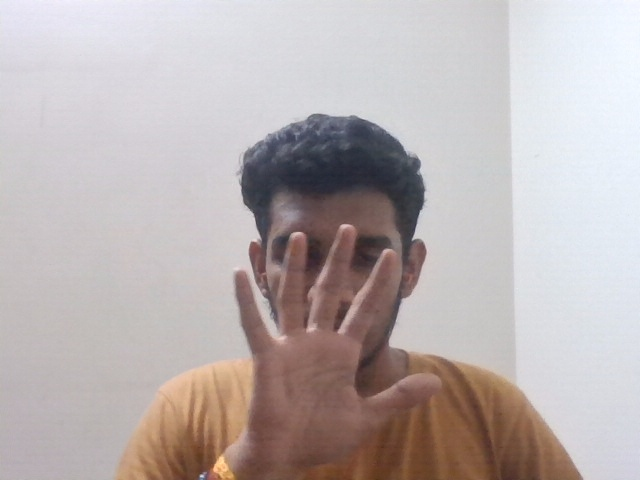hello: (228, 221, 438, 456)
